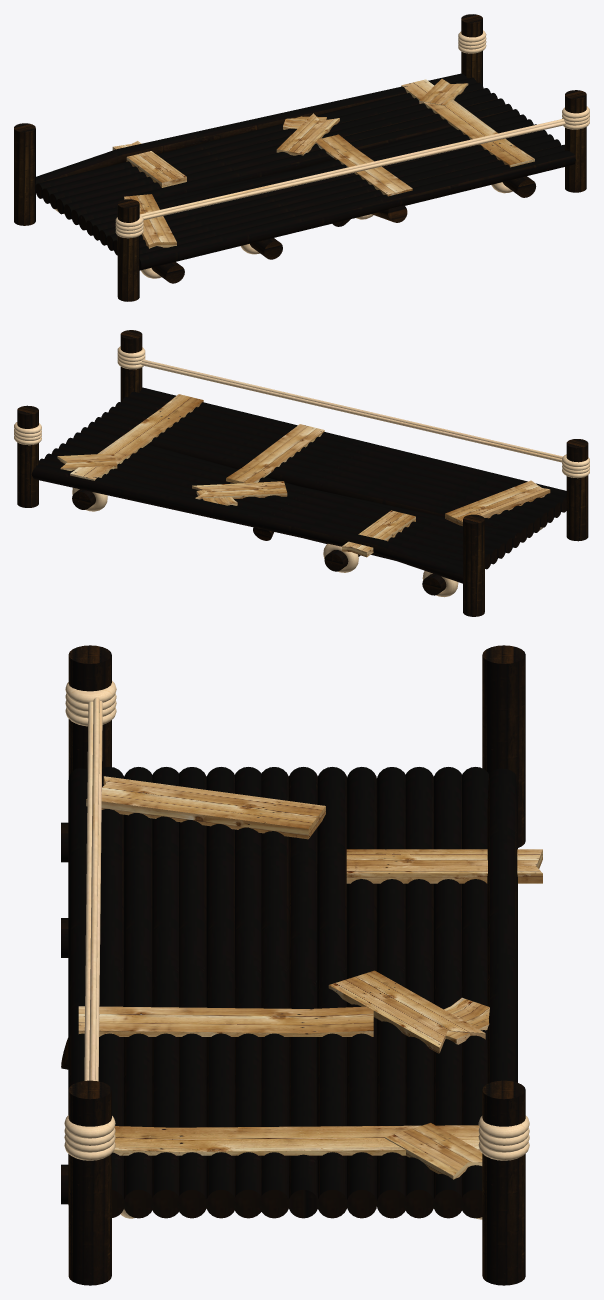
Rendered from bridge.fbx.
3 views of the same model, one above another, from view 1: azimuth 30°, elevation 25°; view 2: azimuth 150°, elevation 25°; view 3: azimuth 270°, elevation 25° (orthographic). The views are drawn at different scales.
Visible parts, largest first — view 1: pCylinder16, pCylinder10, pCylinder1, polySurface5, pCylinder2, pCylinder3, pCylinder15, pCylinder7, pCylinder6, pCylinder13, pCylinder5, pCylinder14 (+19 smaller); view 2: pCylinder10, pCylinder5, polySurface5, pCylinder11, pCylinder14, pCylinder15, pCylinder12, pCylinder1, pCube1, pCylinder8, pCylinder13, pCylinder2 (+19 smaller); view 3: pCylinder1, pCylinder12, pCylinder5, pCylinder15, pCylinder21, pCylinder11, pCylinder2, pCylinder3, pCylinder8, pCylinder13, pCylinder6, pCylinder10 (+16 smaller).
Boxes of the visible parts, box(x1,y1,x2,y2) form: pCylinder16: box(139, 150, 575, 270); pCylinder10: box(35, 73, 467, 192); pCylinder1: box(71, 103, 512, 224); polySurface5: box(140, 119, 565, 220); pCylinder2: box(64, 98, 505, 219); pCylinder3: box(56, 93, 497, 214); pCylinder15: box(139, 139, 560, 247); pCylinder7: box(42, 82, 483, 203); pCylinder6: box(49, 88, 490, 209); pCylinder13: box(113, 134, 554, 255); pCylinder5: box(86, 114, 526, 235); pCylinder14: box(139, 144, 564, 254); pCylinder10: box(31, 464, 463, 583); pCylinder5: box(88, 421, 527, 542); polySurface5: box(140, 359, 562, 462); pCylinder11: box(108, 406, 548, 527); pCylinder14: box(129, 392, 566, 512); pCylinder15: box(122, 397, 561, 517); pCylinder12: box(101, 412, 541, 532); pCylinder1: box(73, 432, 513, 553); pCube1: box(70, 394, 203, 480); pCylinder8: box(94, 417, 534, 537); pCylinder13: box(115, 402, 554, 522); pCylinder2: box(66, 437, 506, 558); pCylinder1: box(317, 767, 347, 1218); pCylinder12: box(206, 767, 235, 1218); pCylinder5: box(259, 767, 289, 1218); pCylinder15: box(123, 767, 153, 1218); pCylinder21: box(288, 767, 318, 1218); pCylinder11: box(176, 767, 207, 1218); pCylinder2: box(346, 767, 376, 1218); pCylinder3: box(376, 767, 407, 1218); pCylinder8: box(233, 767, 263, 1218); pCylinder13: box(150, 767, 180, 1218); pCylinder6: box(404, 767, 434, 1218); pCylinder10: box(487, 768, 517, 1083).
Bounding box in the file's own units: 18.91 × 4.77 × 8.39.
3 materials, 3 textured.
